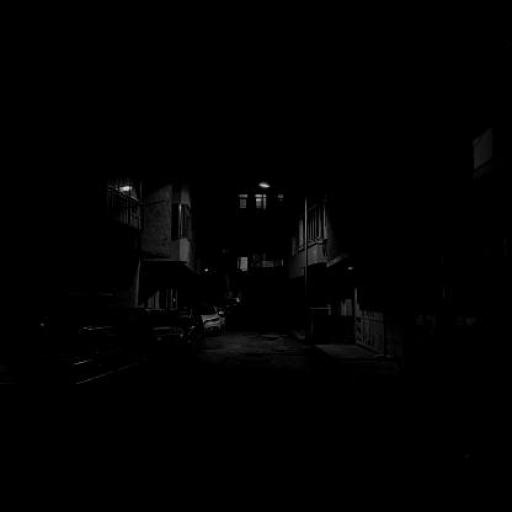street light: (258, 181, 308, 340)
